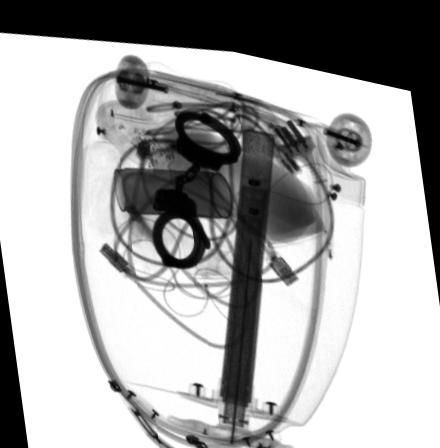HandCuffs: (150, 102, 242, 262)
